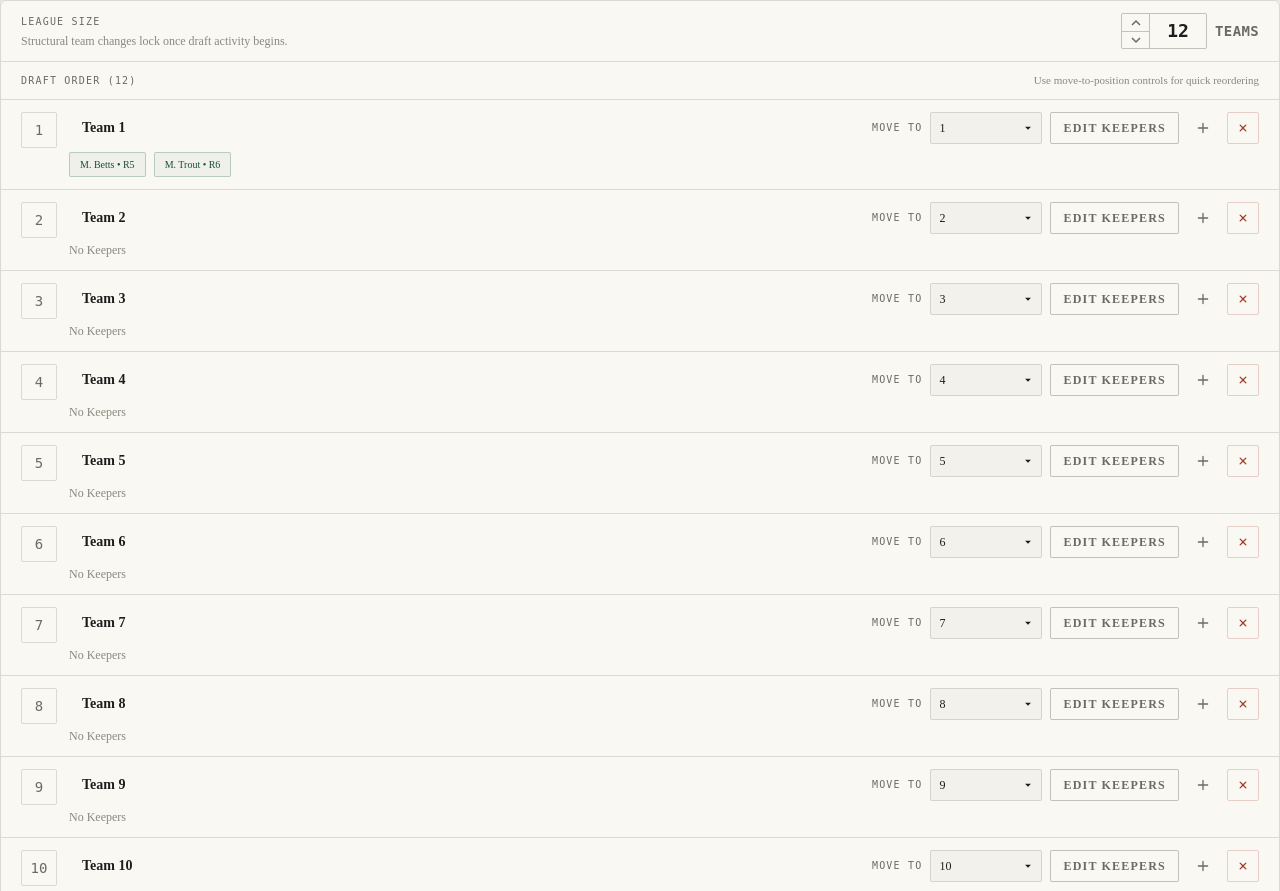
Test case: settings sections › Given one team with keepers in rounds 5 and 6, when I commit an occupied round, then the edit is rejected and the input reverts
Click the button with aria-label "Show keepers for Team 1" at (1115, 128), box [1050, 112, 1179, 144]
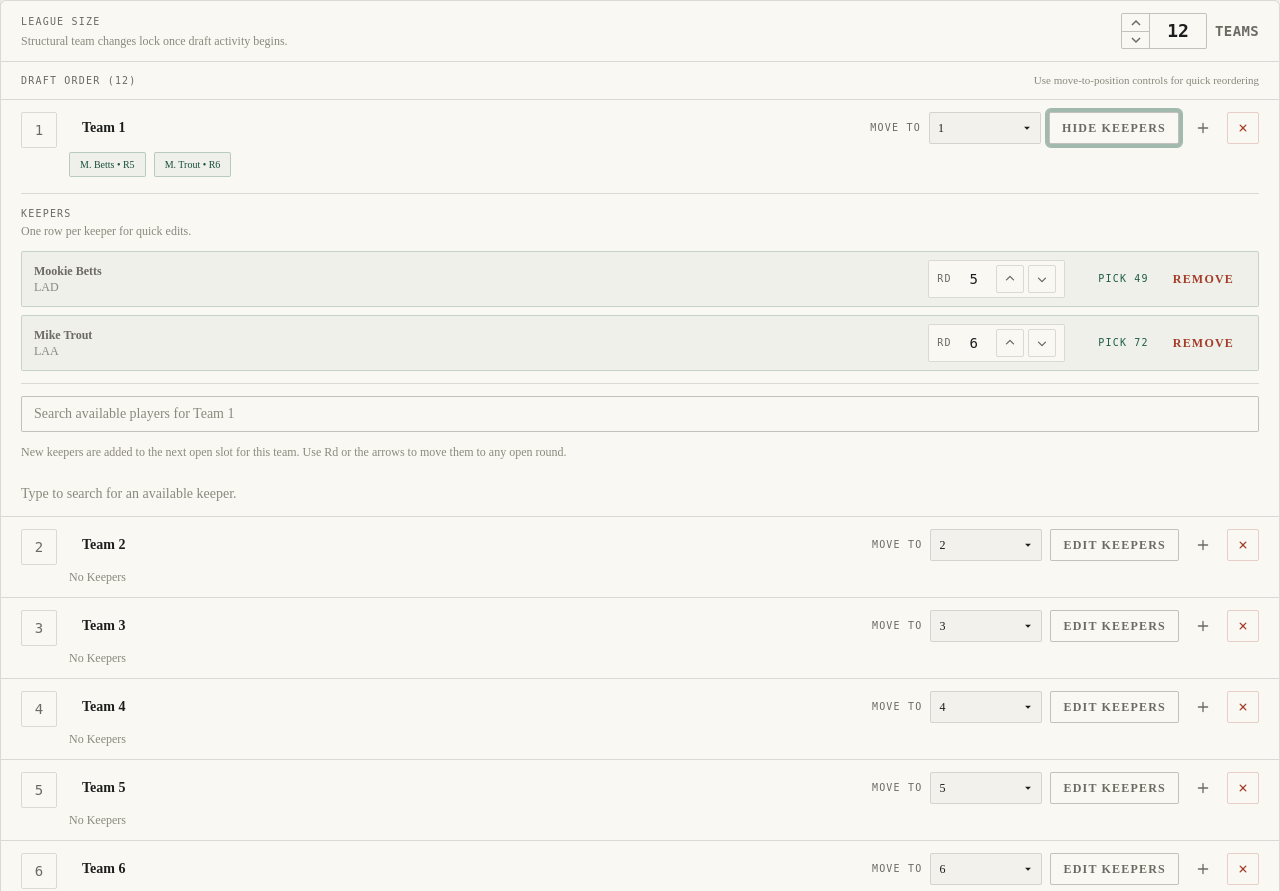
Replace the text in the field named "Keeper round for Mookie Betts" with "6" at (974, 278), box [956, 268, 992, 288]
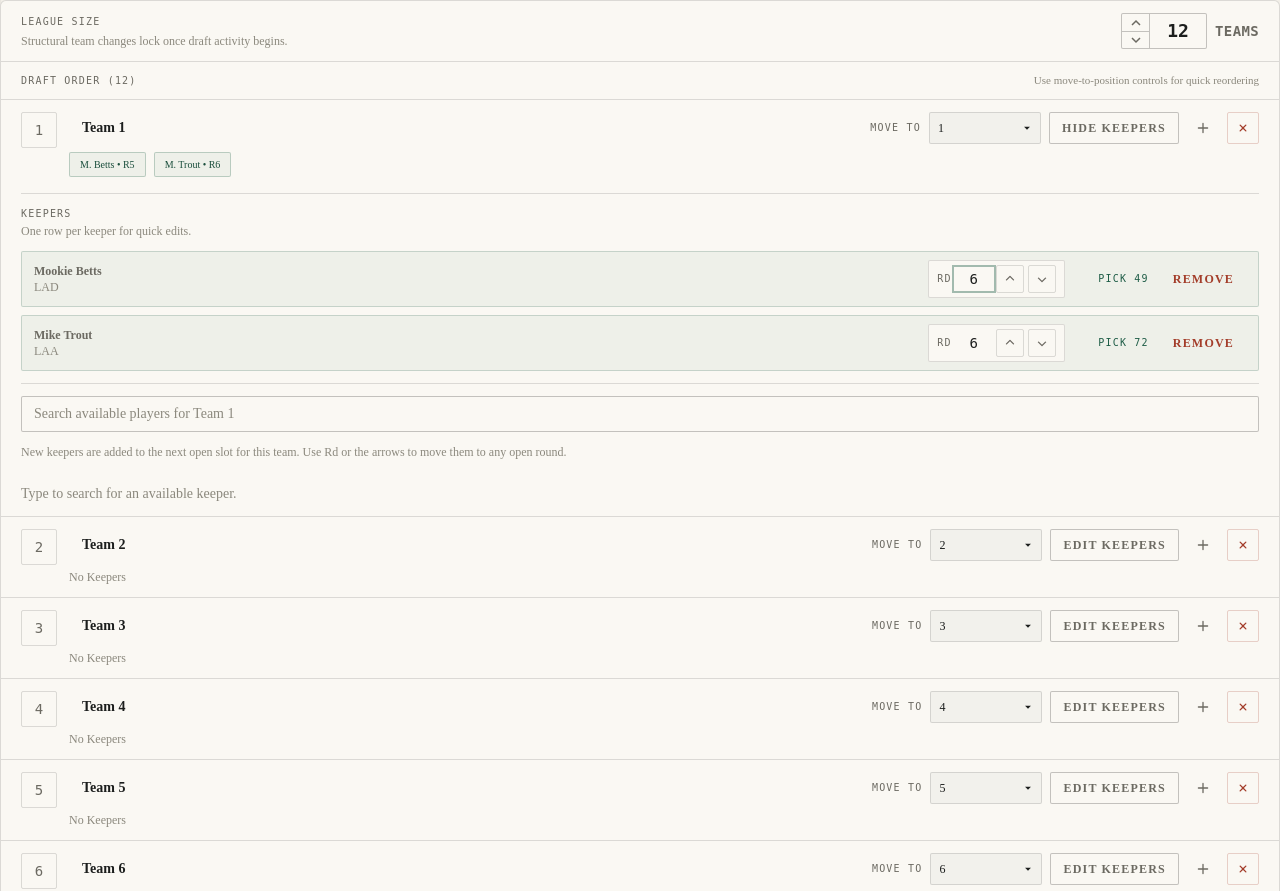
Press Tab
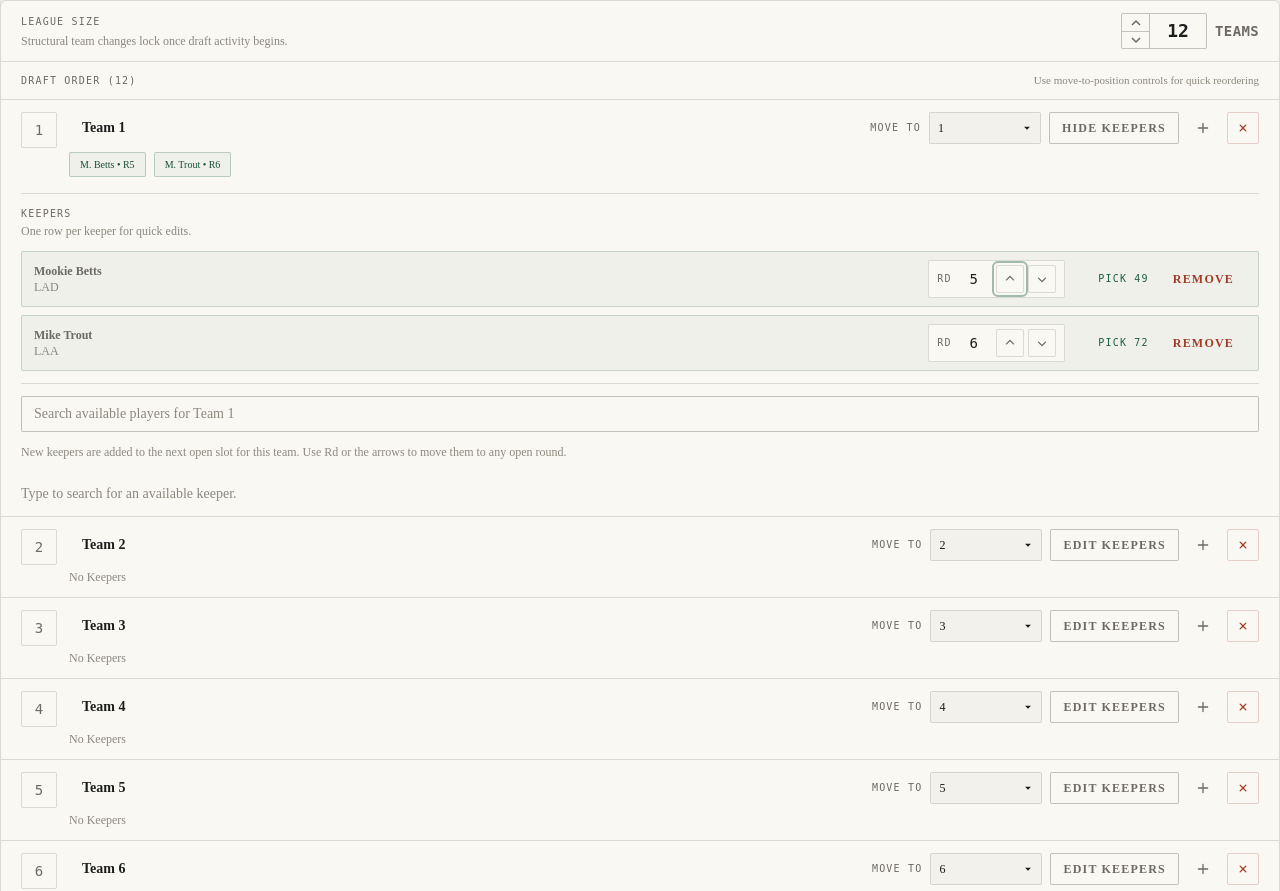
Result: the field named "Keeper round for Mookie Betts" holds "5" at [956, 268, 992, 288]
